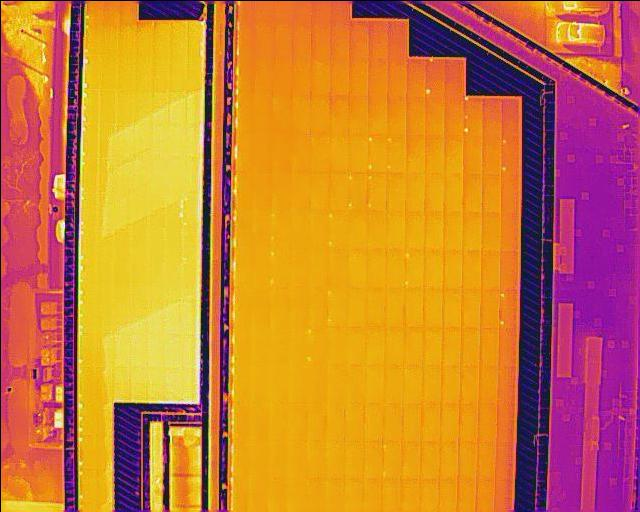Cell-Multi: (380, 439, 401, 480), (306, 325, 327, 364), (403, 249, 423, 289), (326, 287, 347, 325), (326, 211, 347, 249), (423, 57, 443, 96), (346, 171, 366, 210), (268, 249, 287, 289), (366, 171, 385, 211), (463, 97, 482, 136), (366, 134, 385, 173), (498, 290, 517, 328), (386, 134, 405, 172), (500, 135, 518, 174)
No-Anomaly: (418, 439, 439, 480), (305, 247, 326, 288), (286, 324, 307, 364), (457, 403, 477, 444), (271, 171, 291, 212), (327, 170, 347, 211), (271, 93, 292, 132), (475, 442, 496, 481), (304, 401, 325, 440), (326, 249, 347, 288), (384, 172, 405, 211), (253, 57, 275, 94), (347, 95, 367, 135), (443, 58, 463, 98), (438, 441, 458, 481), (401, 402, 421, 442), (343, 401, 363, 441), (382, 286, 402, 326), (441, 249, 461, 289), (462, 172, 482, 212), (385, 57, 406, 95), (254, 19, 275, 57), (362, 402, 383, 440), (270, 133, 291, 171), (272, 57, 294, 93), (405, 96, 425, 135), (385, 95, 405, 134), (347, 56, 367, 95), (309, 55, 329, 94), (342, 440, 362, 479), (361, 440, 381, 479), (285, 439, 305, 478), (304, 439, 324, 478), (477, 403, 497, 442), (458, 365, 478, 404), (401, 364, 421, 403), (248, 364, 268, 403), (402, 326, 422, 365), (460, 288, 480, 327), (364, 287, 384, 326), (384, 249, 404, 288), (442, 211, 462, 250), (384, 210, 404, 249), (403, 210, 423, 249), (443, 133, 463, 172), (346, 325, 365, 366), (308, 170, 327, 211), (424, 133, 443, 174), (305, 364, 326, 401), (305, 288, 326, 325), (424, 96, 444, 134), (367, 95, 386, 135), (309, 94, 328, 134), (400, 440, 420, 478), (266, 440, 286, 478), (420, 403, 440, 441), (382, 402, 401, 442), (325, 401, 344, 441), (285, 402, 305, 440), (286, 365, 306, 403), (344, 364, 364, 402), (460, 327, 480, 365), (364, 326, 383, 366), (269, 324, 288, 364), (441, 289, 461, 327), (480, 249, 499, 289), (288, 248, 307, 288), (423, 173, 443, 211), (290, 172, 310, 210), (481, 135, 501, 173), (462, 135, 482, 173), (367, 56, 386, 95), (329, 56, 348, 95), (247, 440, 266, 479), (440, 402, 459, 441), (421, 364, 440, 403), (422, 326, 441, 365), (383, 326, 402, 365), (327, 325, 346, 364), (403, 288, 422, 327), (461, 250, 480, 289), (347, 210, 366, 249), (366, 210, 385, 249), (443, 172, 462, 211), (291, 56, 311, 93), (347, 20, 367, 57), (477, 366, 497, 403), (363, 365, 383, 402), (251, 323, 269, 364), (444, 96, 463, 134), (458, 443, 477, 481), (495, 442, 514, 480), (324, 439, 343, 477), (247, 402, 266, 440), (497, 366, 516, 404), (440, 365, 459, 403), (382, 365, 401, 403), (497, 328, 516, 366), (479, 328, 498, 366), (440, 327, 459, 365), (479, 289, 498, 327), (422, 289, 441, 327), (461, 212, 480, 250), (480, 211, 499, 249), (481, 173, 500, 211), (405, 134, 424, 172), (347, 134, 366, 172), (291, 133, 310, 171), (482, 98, 501, 136), (329, 94, 347, 134), (385, 20, 405, 56), (423, 249, 441, 289), (234, 248, 252, 288), (267, 403, 286, 440), (326, 364, 345, 401), (365, 250, 384, 287), (308, 211, 327, 248), (309, 132, 328, 169), (254, 93, 272, 132), (496, 404, 514, 443), (268, 365, 286, 404), (234, 325, 252, 364), (347, 287, 365, 326), (251, 249, 269, 288), (500, 212, 518, 251), (236, 173, 254, 212), (380, 479, 401, 512), (237, 95, 255, 133), (329, 20, 348, 56), (237, 20, 256, 56), (310, 19, 329, 55), (286, 289, 305, 325), (347, 250, 365, 288), (423, 211, 441, 249), (254, 133, 272, 171), (323, 478, 343, 512), (499, 249, 516, 289), (270, 214, 290, 248), (254, 172, 271, 212), (292, 19, 310, 56), (405, 173, 423, 210), (329, 135, 347, 172), (238, 58, 257, 93), (250, 289, 269, 324), (292, 93, 309, 132), (407, 57, 424, 96), (274, 18, 291, 57), (500, 174, 517, 213), (361, 479, 381, 512), (368, 21, 386, 57), (501, 98, 518, 136), (285, 478, 304, 512), (268, 290, 287, 324), (237, 133, 254, 171), (438, 479, 457, 512), (343, 479, 362, 512), (247, 479, 266, 512), (267, 478, 285, 512), (305, 478, 323, 512), (235, 214, 253, 248), (252, 213, 270, 247), (290, 211, 307, 247), (232, 440, 248, 478), (475, 480, 494, 512), (419, 480, 438, 512), (401, 479, 419, 512), (233, 363, 248, 402), (494, 480, 512, 512), (457, 480, 475, 512), (234, 288, 250, 324), (231, 479, 248, 512), (233, 404, 247, 439)
